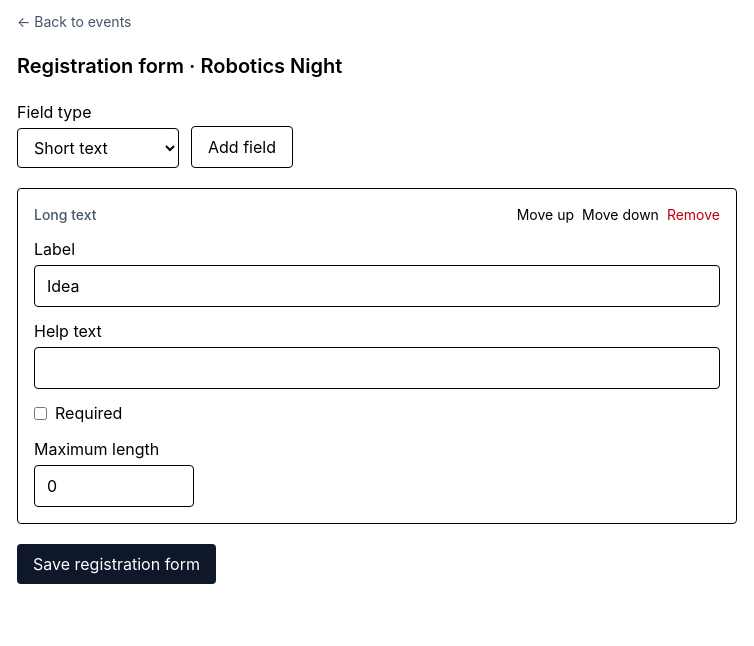
Test: OfficerRegistrationFormPage › refuses an invalid text limit before sending it
Click the button "Save registration form".
click(116, 564)  # box [17, 544, 216, 584]
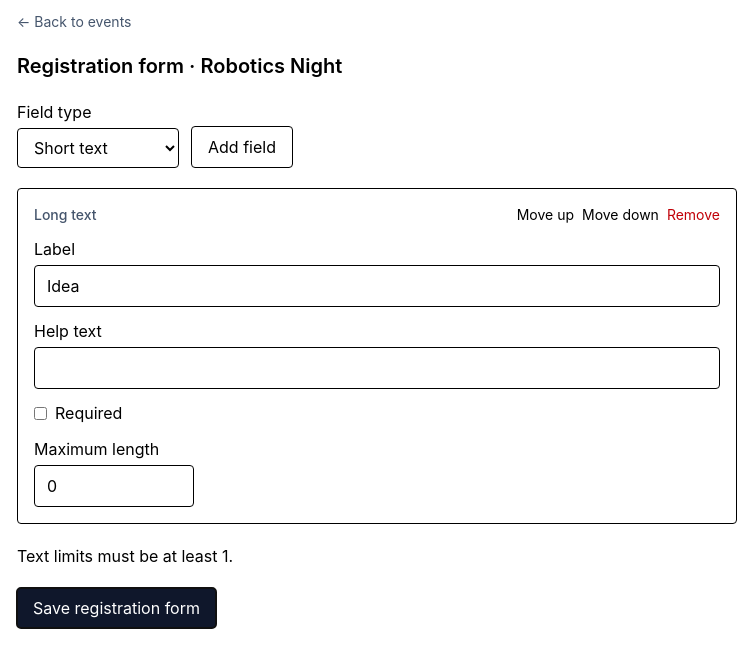
Now the message reads "Text limits must be at least 1.", box [17, 546, 233, 566]
